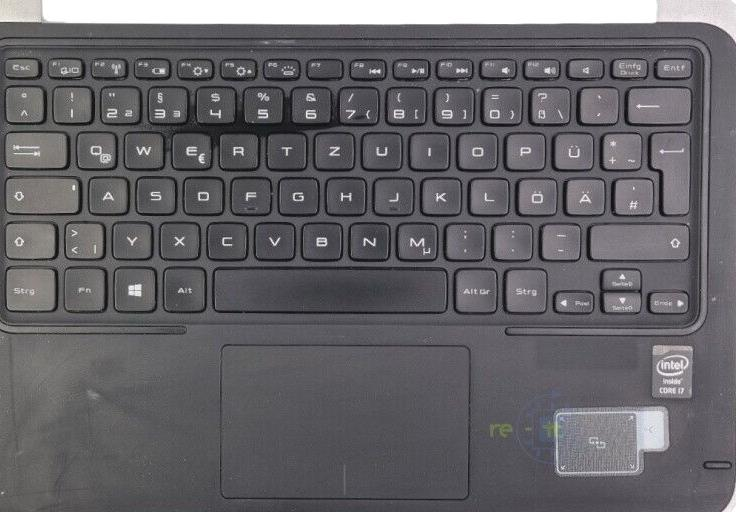0: (480, 85, 522, 124)
1: (50, 84, 92, 123)
2: (98, 84, 141, 123)
3: (145, 84, 188, 124)
4: (194, 84, 236, 123)
5: (242, 84, 284, 123)
6: (289, 85, 332, 123)
7: (337, 85, 378, 124)
8: (384, 85, 425, 124)
9: (432, 85, 473, 124)
a: (87, 174, 128, 213)
accent: (577, 84, 618, 123)
ae: (563, 175, 605, 214)
alt-left: (161, 265, 206, 312)
altgr-right: (452, 266, 497, 313)
b: (299, 220, 342, 259)
c: (205, 220, 247, 259)
caret: (4, 84, 44, 122)
comma: (443, 220, 485, 259)
d: (182, 175, 224, 214)
del: (625, 84, 692, 124)
e: (170, 130, 212, 169)
enter: (648, 128, 690, 215)
f: (229, 175, 271, 214)
g: (276, 175, 319, 214)
h: (324, 175, 366, 214)
hash: (611, 175, 652, 214)
i: (407, 130, 449, 169)
j: (372, 175, 413, 214)
k: (419, 175, 461, 214)
keyboard: (1, 34, 710, 333)
l: (468, 175, 508, 214)
less: (62, 219, 104, 259)
m: (394, 220, 438, 260)
minus: (539, 221, 580, 259)
n: (347, 220, 390, 260)
o: (455, 130, 498, 169)
oe: (515, 176, 556, 214)
p: (504, 130, 545, 169)
plus: (599, 130, 642, 169)
point: (491, 221, 533, 258)
q: (74, 129, 117, 168)
r: (217, 131, 259, 168)
s: (134, 174, 176, 214)
shift-left: (2, 219, 55, 259)
shift-lock: (3, 173, 80, 214)
shift-right: (587, 220, 689, 259)
space: (212, 264, 446, 313)
ss: (527, 85, 570, 124)
strg-left: (2, 264, 56, 312)
strg-right: (502, 266, 547, 312)
t: (265, 130, 306, 168)
tab: (3, 128, 68, 169)
u: (360, 129, 402, 169)
ue: (551, 129, 594, 169)
v: (252, 220, 295, 259)
w: (122, 129, 164, 169)
x: (158, 219, 200, 258)
y: (110, 219, 152, 258)
z: (312, 129, 354, 169)
